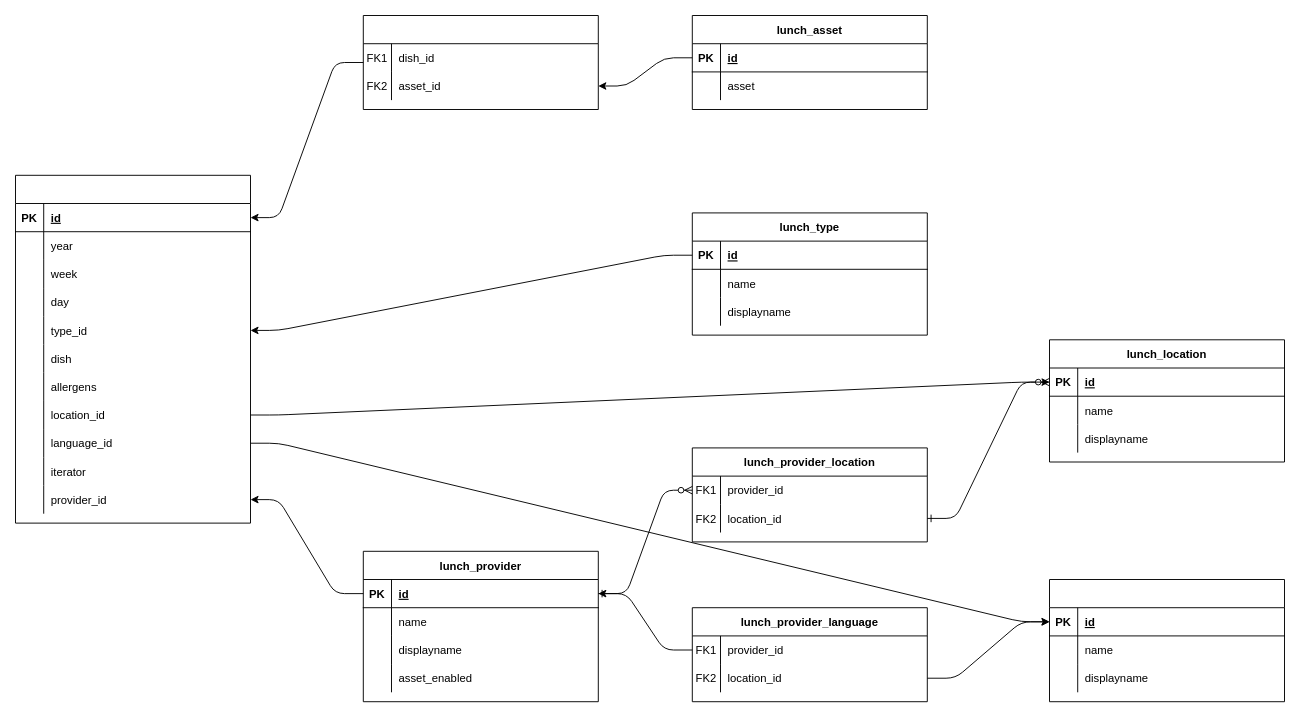
Some shapes in this 1300 by 717 pixel diagram are drawn without their labels. Here are the shapes that lost their labels. From the top down, the box of each, then its label:
(362, 15, 598, 110): lunch_dish_asset
(15, 174, 251, 523): lunch_dish
(1049, 579, 1285, 702): lunch_language
